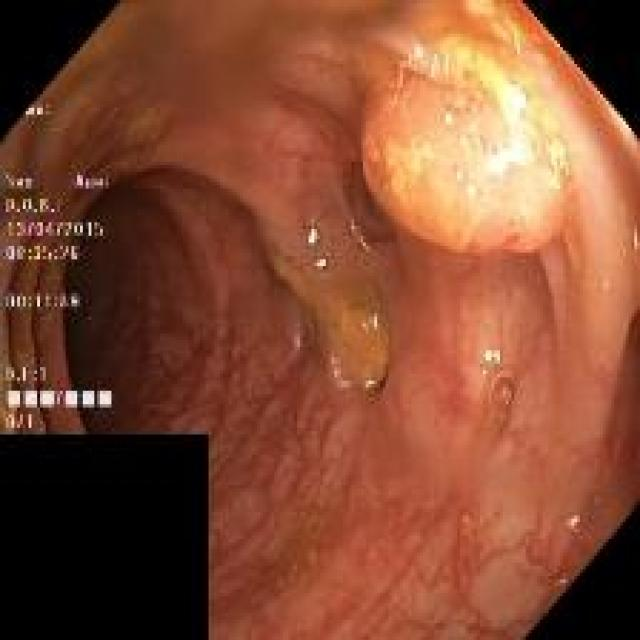Polyps: (360, 44, 569, 253)
